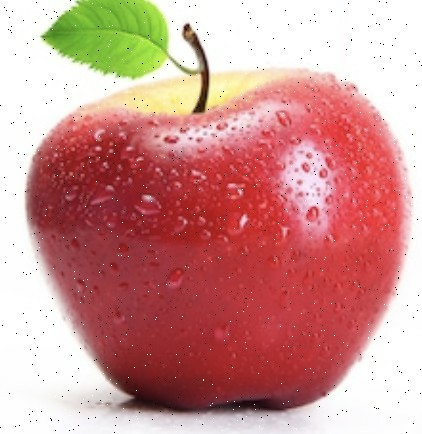fresh_apple: (29, 67, 417, 412)
